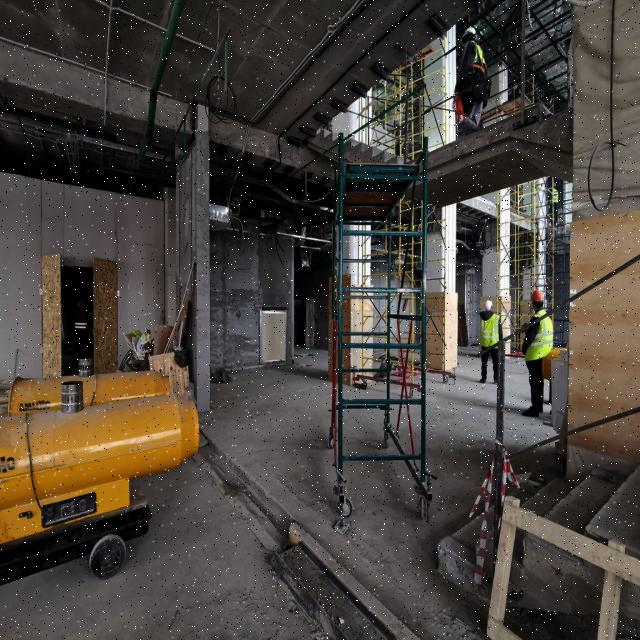Helmet: (462, 27, 478, 41), (533, 291, 545, 307), (486, 302, 493, 312)
Jacket: (531, 309, 553, 361), (482, 312, 499, 346)
